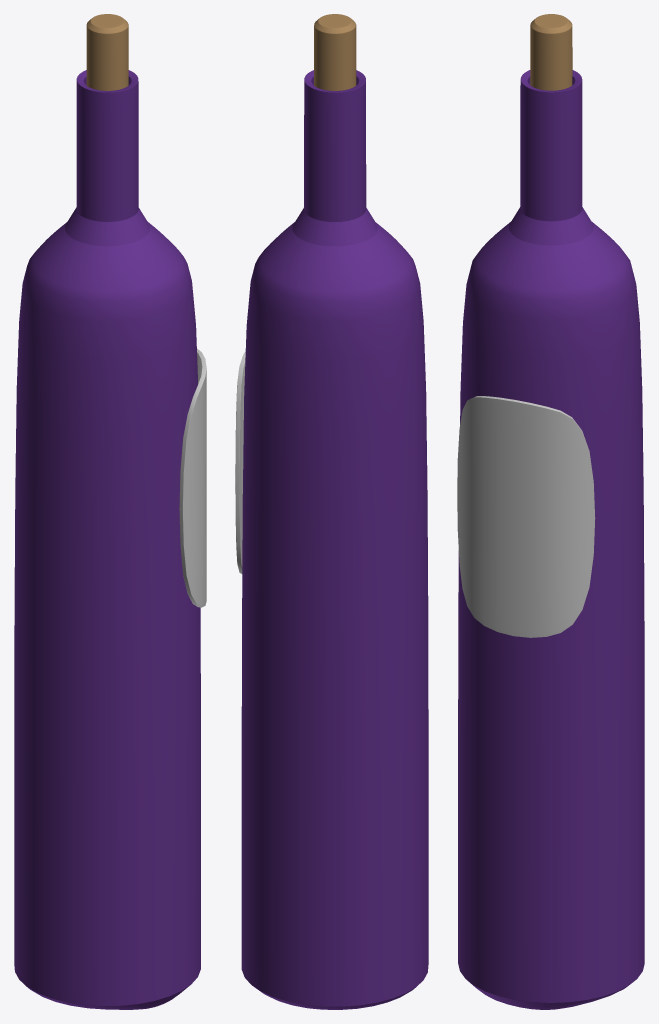
The model's file is msh_bottle.fbx.
The picture shows the model from 3 angles, left to right: view 1: azimuth 30°, elevation 25°; view 2: azimuth 150°, elevation 25°; view 3: azimuth 270°, elevation 25°; orthographic projection.
Visible parts, largest first — view 1: msh_bottle; view 2: msh_bottle; view 3: msh_bottle.
Part boxes in pixels (x1,y1,x2,y2): msh_bottle: (14,14,206,1009); msh_bottle: (235,14,428,1009); msh_bottle: (457,14,644,1009).
Bounding box in the file's own units: 0.1528 × 0.8337 × 0.1483.
